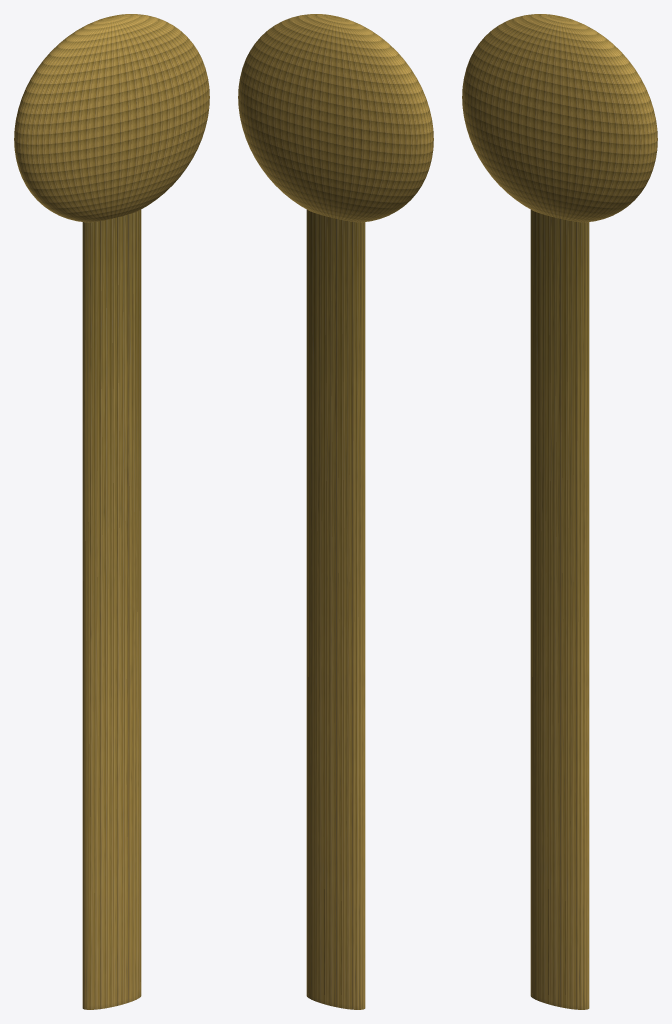
File: pendulum.obj
3 views of the same model, side by side, from view 1: azimuth 30°, elevation 25°; view 2: azimuth 150°, elevation 25°; view 3: azimuth 330°, elevation 25° (orthographic).
Visible parts, largest first — view 1: Cylinder; view 2: Cylinder; view 3: Cylinder.
Part boxes in pixels (box(x1,y1,x2,y2)): Cylinder: box(14, 14, 209, 1009); Cylinder: box(238, 14, 433, 1009); Cylinder: box(462, 14, 657, 1009).
Size of the model in its own units: 2 by 9.75 by 0.6.
Materials: 1 (1 with a texture image).
